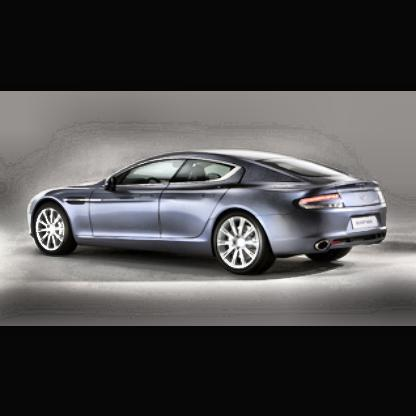Aston Martin V8 Vantage Coupe 2012: (26, 147, 394, 281)
